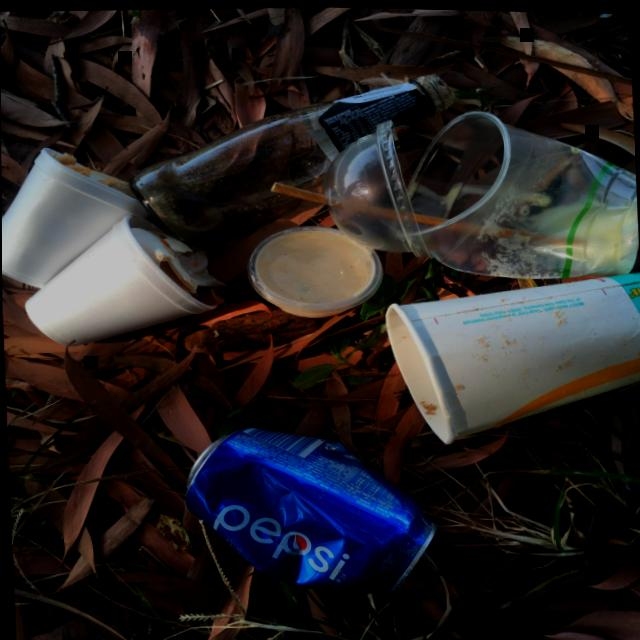Disposable food container: (246, 224, 383, 316)
Disposable plastic cup: (406, 108, 638, 276)
Drink can: (184, 425, 436, 594)
Foam cup: (24, 214, 217, 347), (1, 147, 150, 287)
Glass bottle: (128, 72, 453, 243)
Paper cup: (385, 268, 640, 442)
Paper straw: (269, 180, 448, 223)
Plastic lid: (322, 117, 431, 256), (246, 224, 383, 313)
Unlabeled litter: (129, 227, 228, 296)
